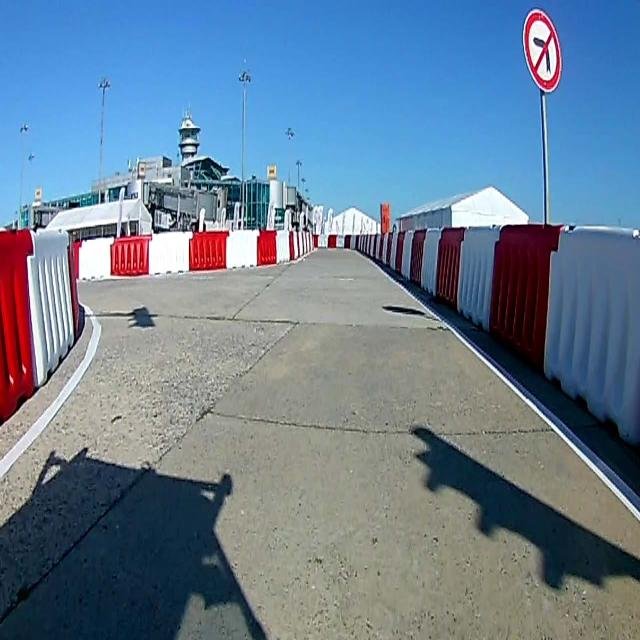soladonulmez: (525, 10, 561, 91)
